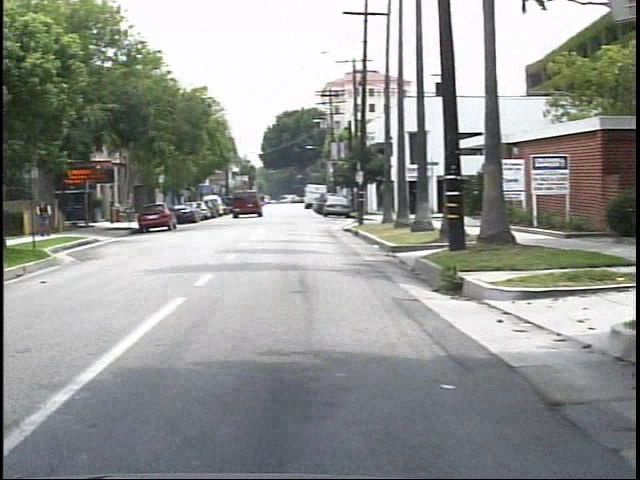person: (24, 192, 50, 239)
